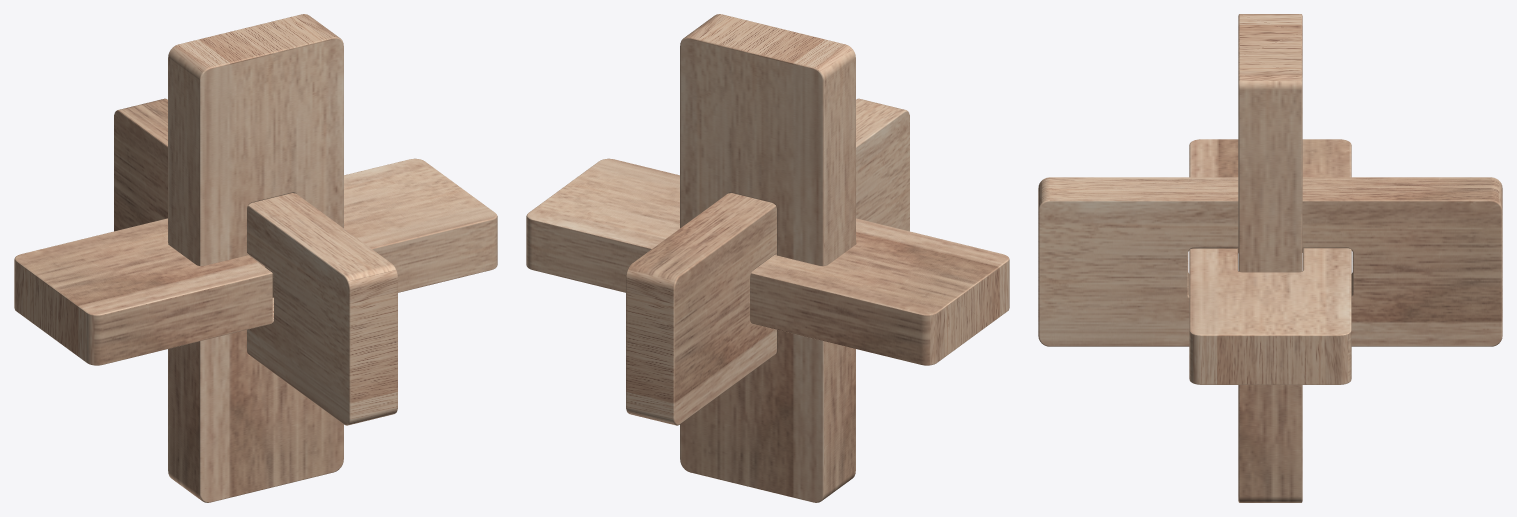
File: puzzle-3pc-natural.glb
3 views of the same model, side by side, from view 1: azimuth 30°, elevation 25°; view 2: azimuth 150°, elevation 25°; view 3: azimuth 270°, elevation 25° (orthographic).
Visible parts, largest first — view 1: Cube.001; view 2: Cube.001; view 3: Cube.001.
Part boxes in pixels (<box>): Cube.001: <box>14,14,497,502</box>; Cube.001: <box>526,14,1009,502</box>; Cube.001: <box>1038,14,1502,502</box>.
Size of the model in its own units: 3.35 by 3.4 by 3.35.
Materials: 1 (1 with a texture image).
